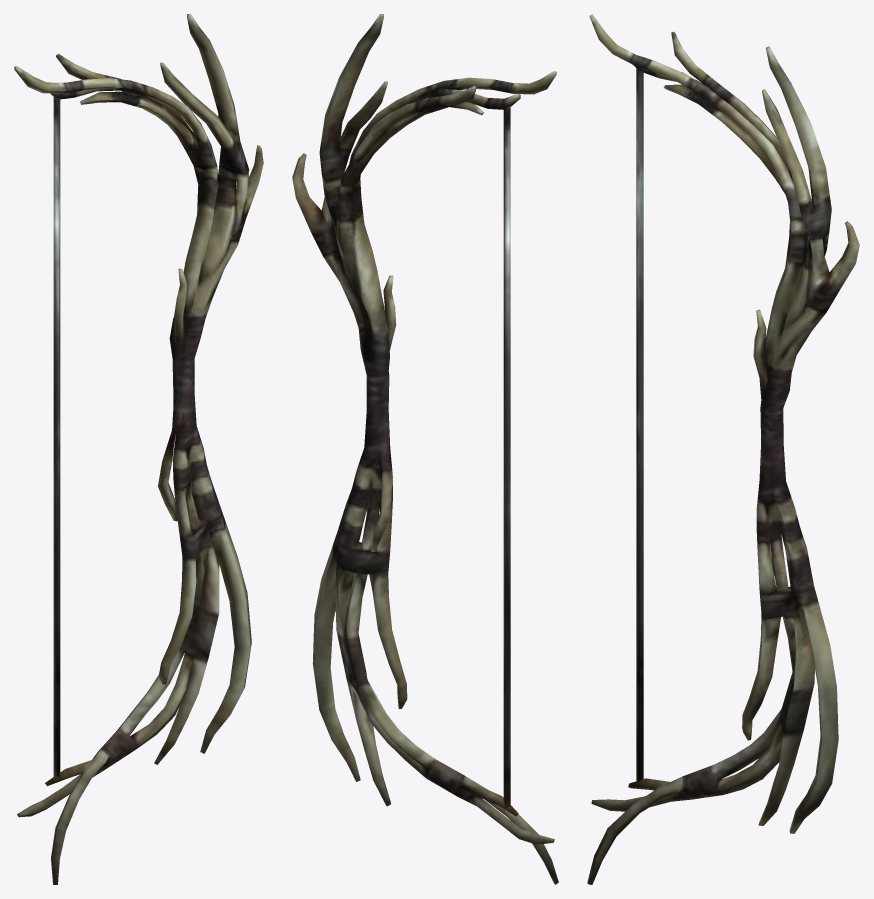
File: weapon-woodland-protector.glb
3 views of the same model, side by side, from view 1: azimuth 30°, elevation 25°; view 2: azimuth 150°, elevation 25°; view 3: azimuth 330°, elevation 25° (orthographic). The views are drawn at different scales.
Visible parts, largest first — view 1: BowD_MDL_q; view 2: BowD_MDL_q; view 3: BowD_MDL_q.
Boxes of the visible parts, bbox=[...] form: BowD_MDL_q: bbox=[14, 14, 263, 884]; BowD_MDL_q: bbox=[292, 14, 558, 884]; BowD_MDL_q: bbox=[587, 14, 859, 884].
Bounding box in the file's own units: 0.6401 × 1.98 × 0.1818.
1 material, 1 textured.
